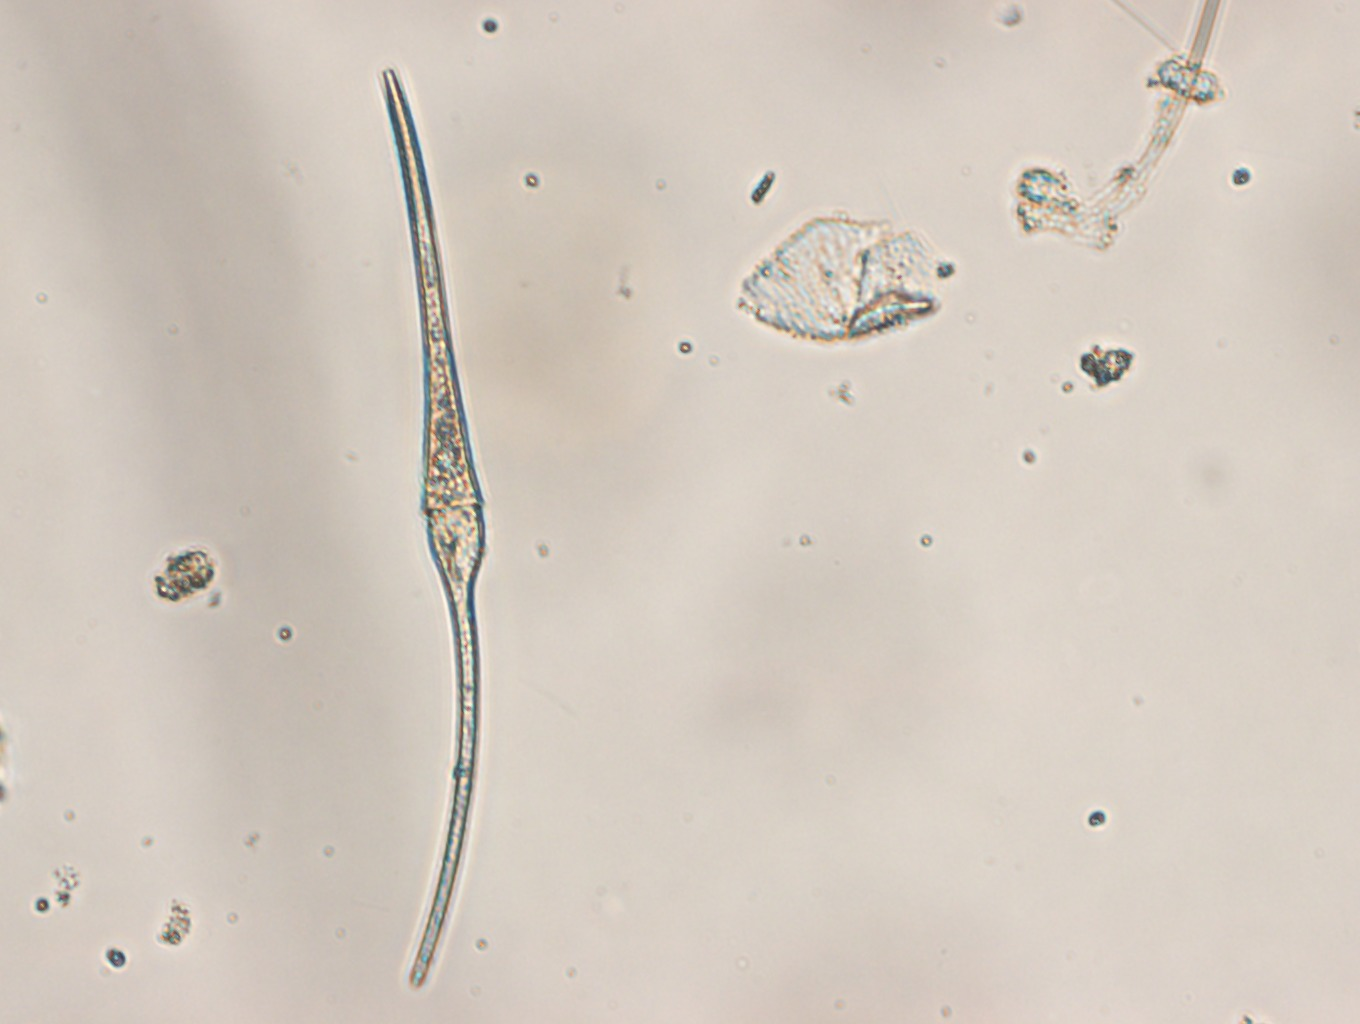ceratium fusus: (376, 69, 491, 981)
